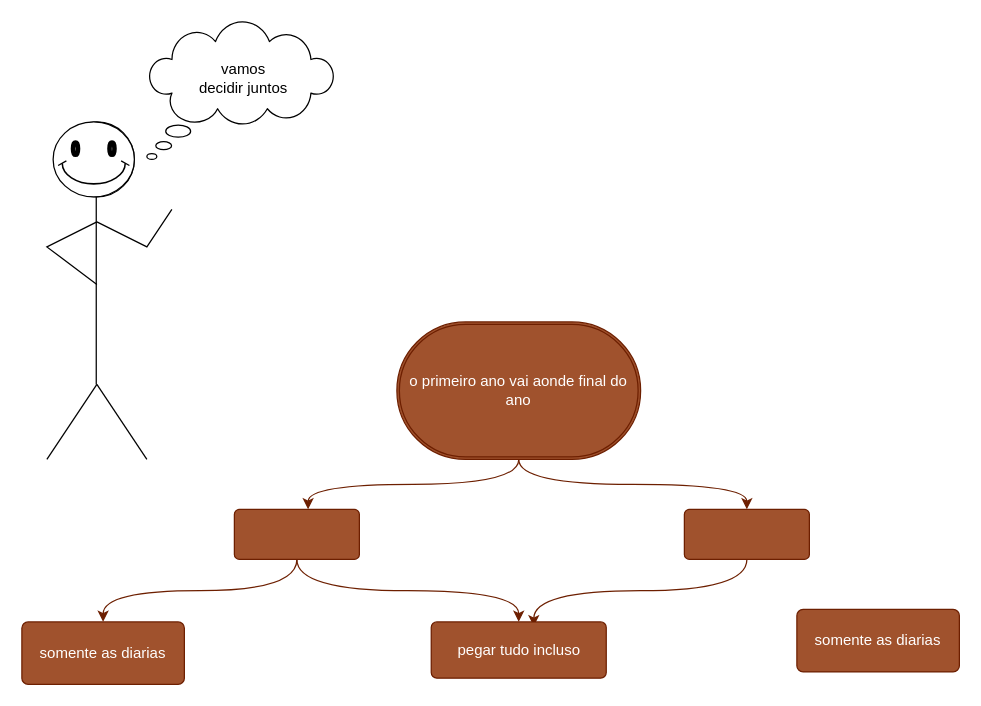
Image size: 981x706. Some labels were removed from this diagram. The box of each missing label's shape, as (x1, y1, x2, y2) in pixels:
eco cataratas: (683, 508, 809, 559)
mabu: (233, 508, 359, 559)
